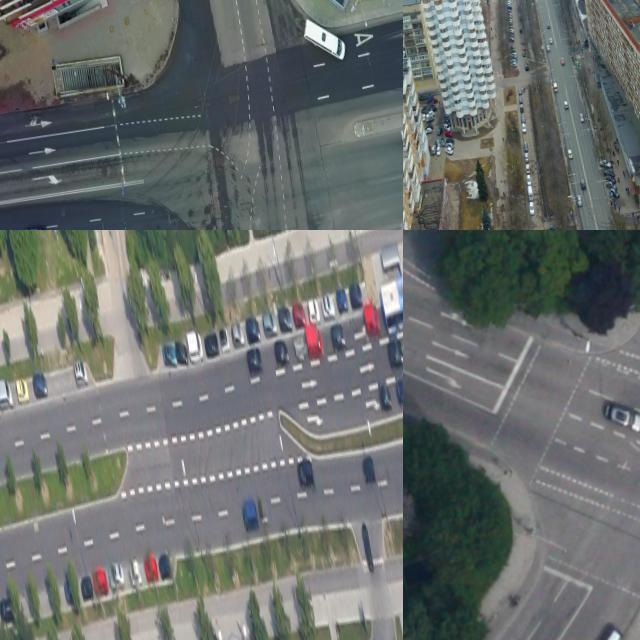UAI: (602, 396, 640, 439), (361, 522, 376, 573), (363, 302, 382, 338), (306, 325, 325, 358), (241, 499, 260, 531), (187, 329, 205, 362), (296, 459, 315, 489), (107, 561, 126, 590), (246, 345, 264, 375), (92, 567, 110, 597), (589, 626, 627, 640), (330, 322, 348, 351), (204, 331, 222, 360), (32, 371, 49, 401), (245, 314, 262, 344), (0, 376, 14, 412), (274, 338, 291, 367), (387, 339, 403, 369), (73, 358, 89, 387), (162, 340, 178, 369), (278, 304, 294, 333), (158, 551, 173, 581), (292, 300, 307, 330), (378, 384, 394, 412), (362, 456, 378, 484), (144, 554, 160, 581), (0, 596, 16, 623), (262, 311, 278, 338), (80, 574, 95, 601), (16, 376, 31, 403), (321, 292, 336, 319), (349, 282, 364, 309), (129, 558, 143, 586), (175, 339, 189, 367), (308, 297, 322, 325), (336, 288, 350, 315), (231, 321, 246, 346), (218, 325, 231, 353), (295, 336, 307, 360), (258, 502, 269, 524), (395, 377, 403, 407), (45, 230, 65, 240), (606, 179, 618, 192), (600, 158, 612, 170), (610, 187, 621, 200), (604, 168, 616, 179), (19, 225, 45, 230), (606, 174, 617, 185), (528, 202, 536, 217), (444, 129, 454, 139), (580, 177, 587, 190), (526, 174, 533, 187), (445, 146, 454, 156), (446, 141, 456, 150), (430, 145, 438, 156), (576, 194, 583, 206), (547, 223, 559, 230), (436, 145, 443, 157), (446, 137, 455, 146), (524, 152, 530, 164), (523, 140, 529, 152), (435, 137, 441, 149), (437, 126, 444, 136), (521, 123, 527, 134), (520, 113, 526, 124), (568, 149, 574, 160), (579, 112, 585, 123), (519, 103, 525, 113), (564, 100, 570, 110), (510, 58, 518, 65), (526, 164, 531, 174), (518, 86, 523, 96), (525, 62, 530, 72), (441, 137, 446, 147), (511, 62, 518, 69), (521, 50, 527, 58), (518, 95, 523, 104), (546, 44, 551, 52), (561, 57, 565, 66), (520, 39, 525, 46), (550, 37, 554, 45), (522, 44, 526, 51), (519, 26, 523, 33), (547, 23, 551, 29)
car: (378, 270, 403, 332)
harvester: (301, 12, 348, 65), (527, 185, 535, 201), (553, 82, 559, 93)
